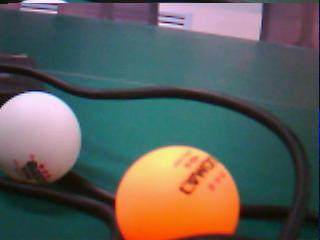oball: (115, 145, 240, 240)
